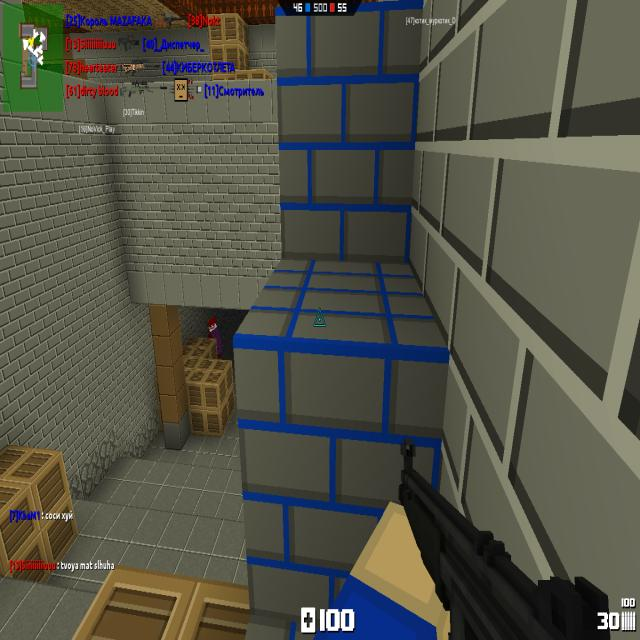enemy: (207, 314, 223, 358)
